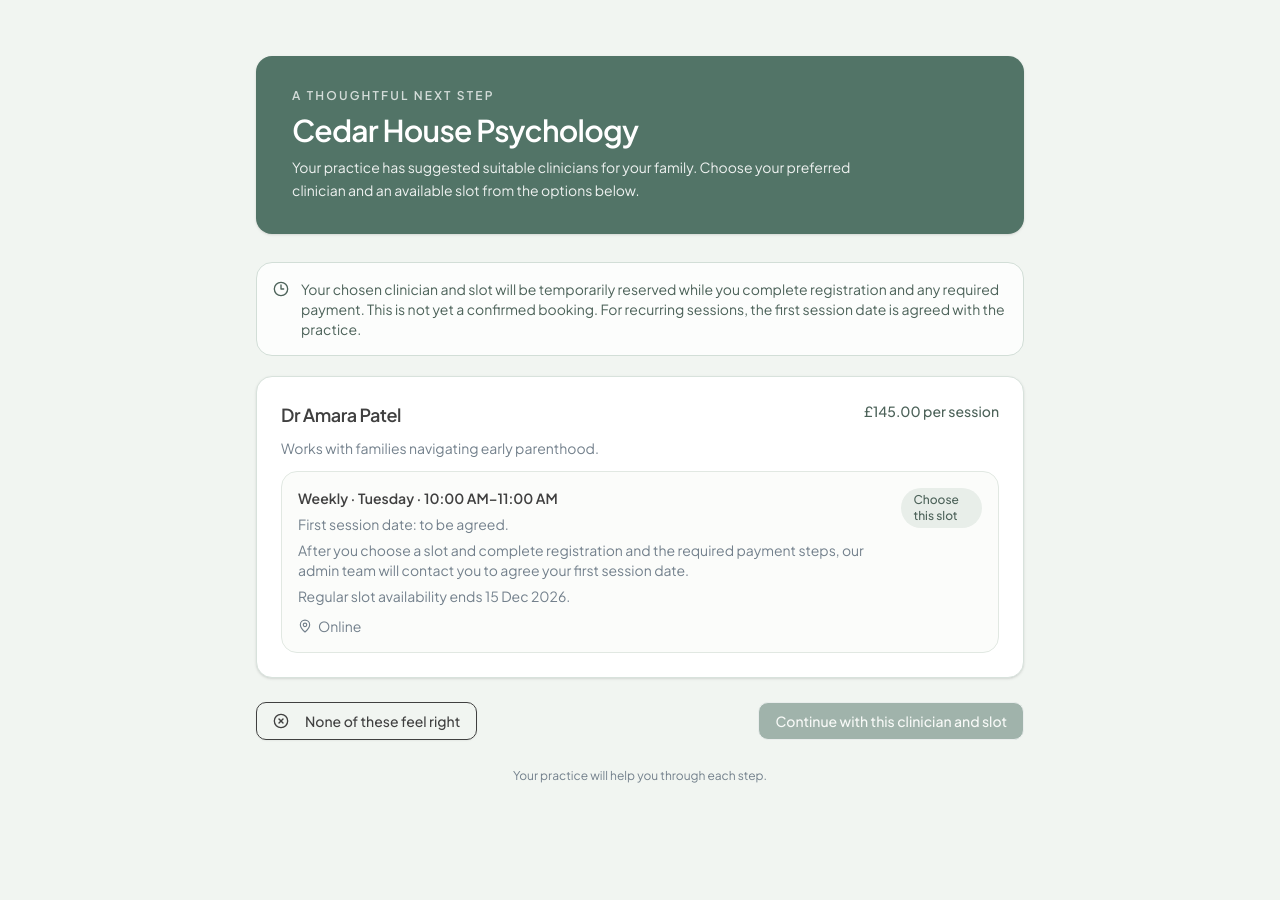
it: public flexible booking › explains clinician and slot selection and submits both identifiers through the public endpoint
Expected: the text "Dr Amara Patel" is shown, [281, 402, 401, 426]
Expected: the text "First session date: to be agreed." is shown, [298, 515, 509, 533]
Click the button named "Choose this slot": (640,562) [281, 471, 999, 653]
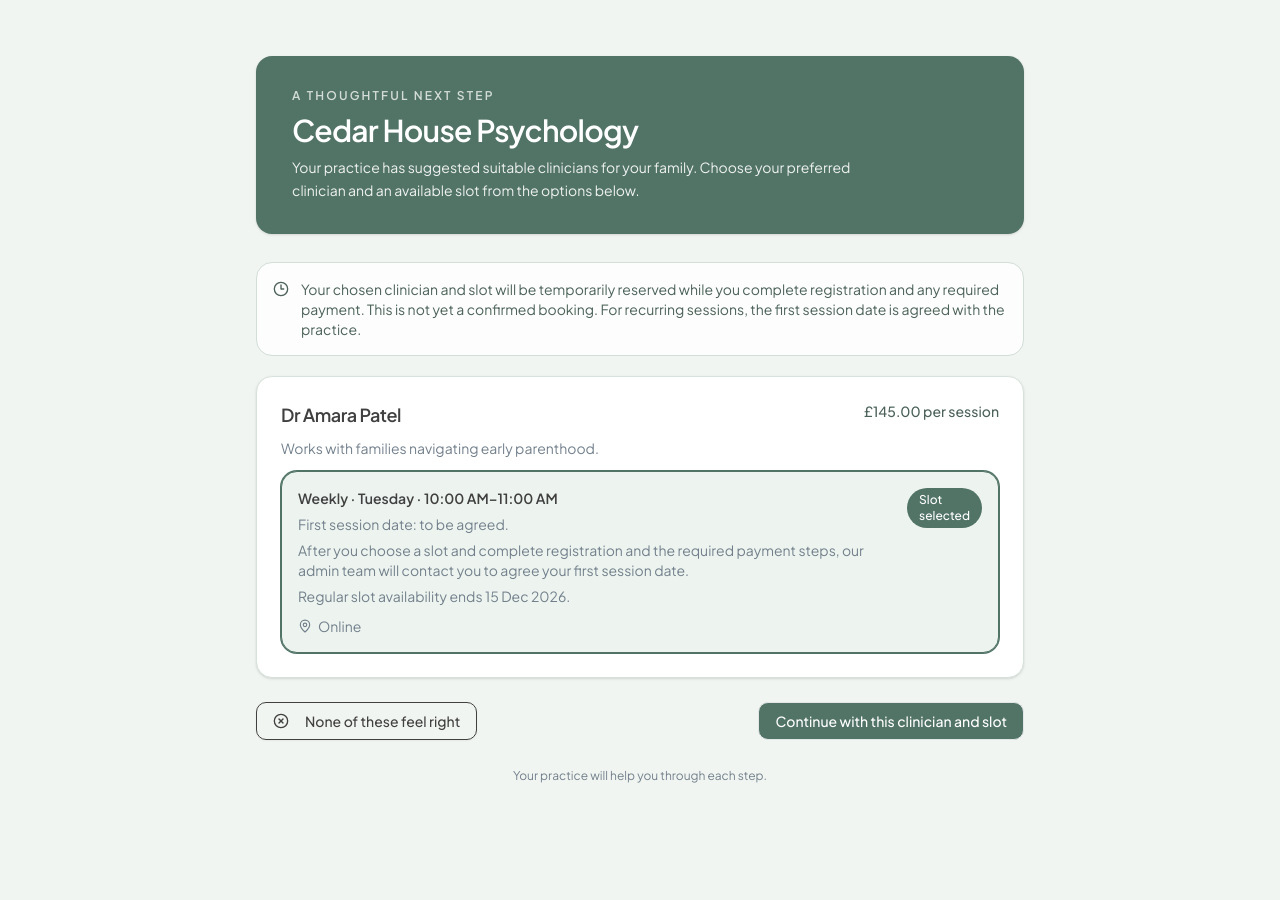
Expected: the text "Slot selected" is shown, [907, 488, 982, 528]
Click the button "Continue with this clinician and slot": (891,721) [758, 702, 1024, 740]
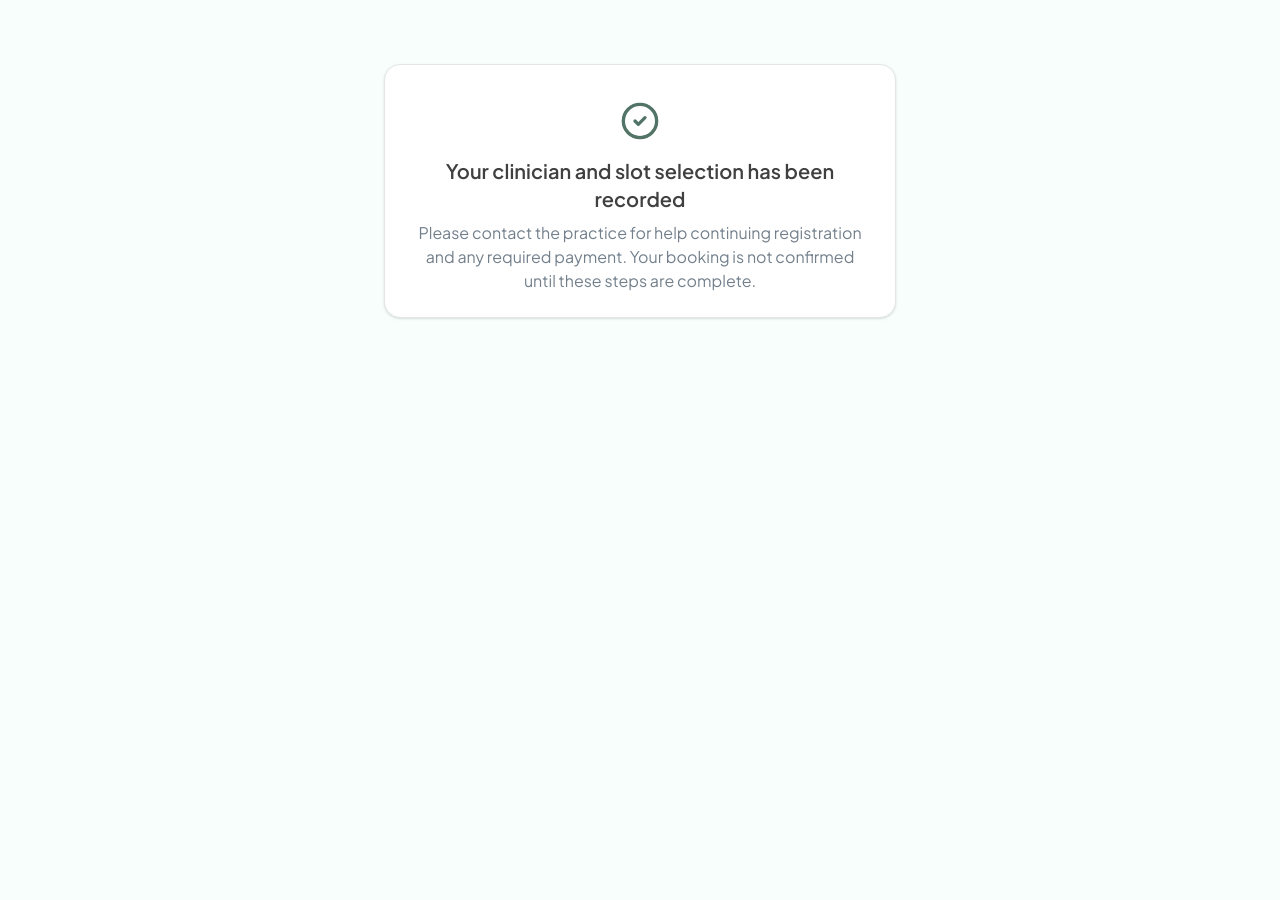
Expected: the heading "Your clinician and slot selection has been recorded" is shown, [446, 158, 834, 211]
